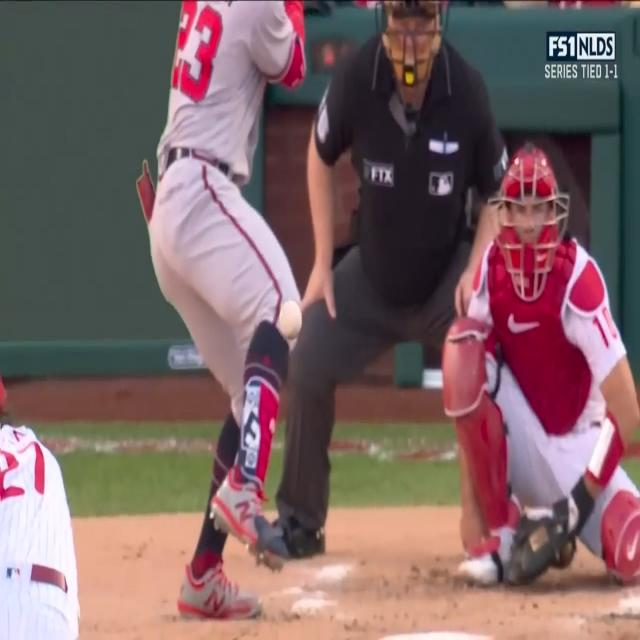baseball: (280, 299, 302, 341)
